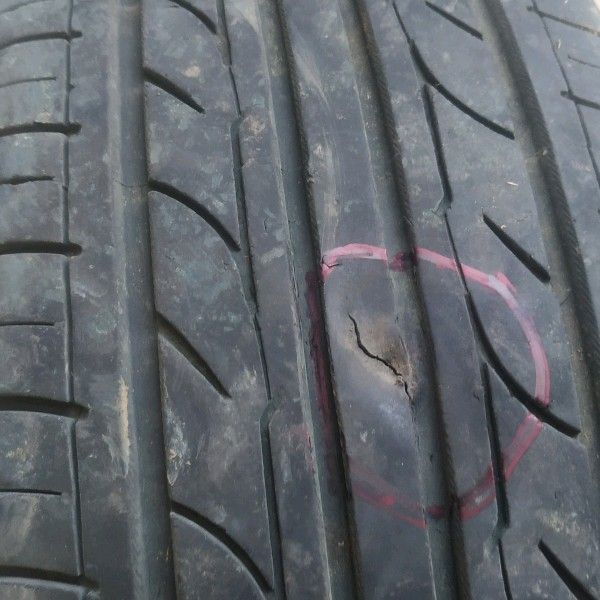tr: (345, 312, 417, 405)
